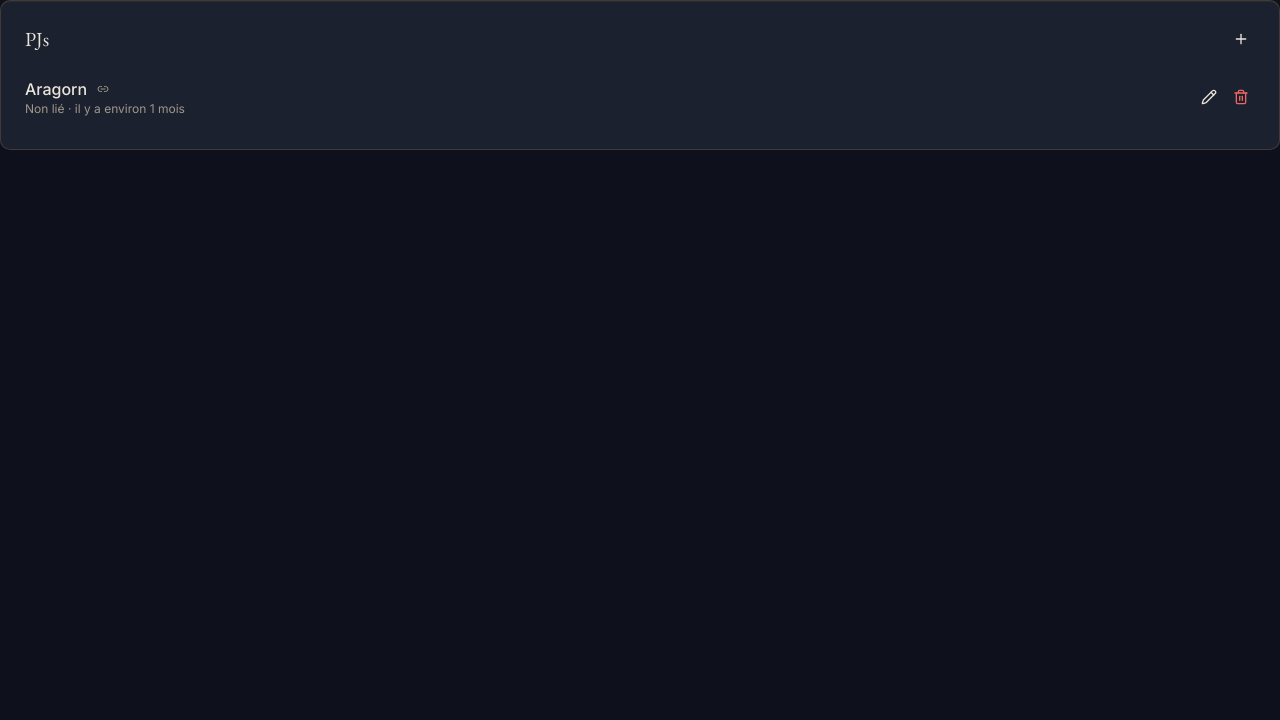
Scenario: <CampaignPjsCard> › clicking a row Supprimer button opens the PjDeleteConfirm dialog
Click the button named "Supprimer le PJ Aragorn" at (1241, 97), box [1227,83,1255,111]
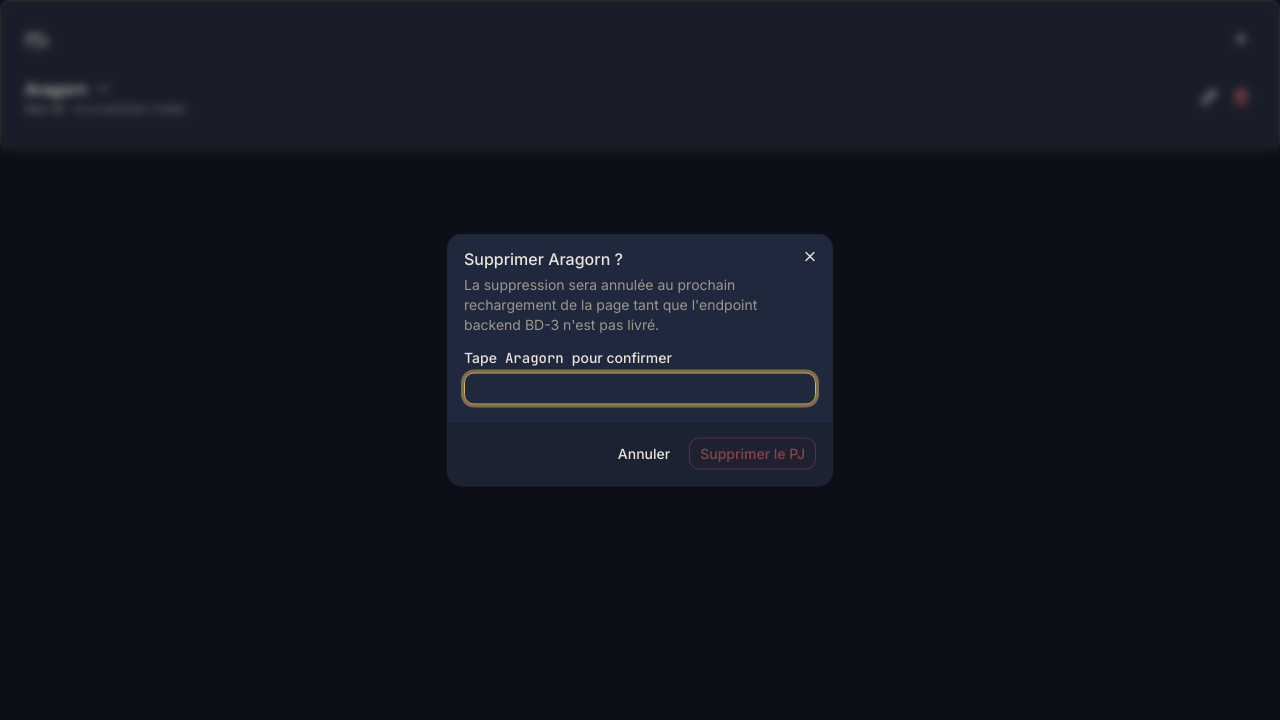
Check: the heading "Supprimer Aragorn ?" is shown, box [464,248,623,268]
